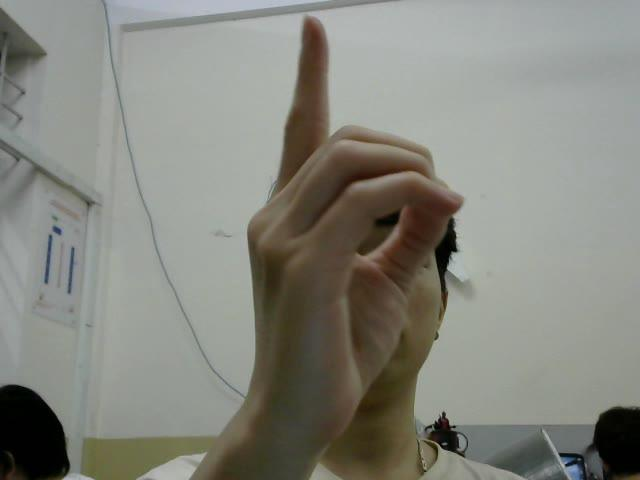D: (242, 14, 466, 428)
